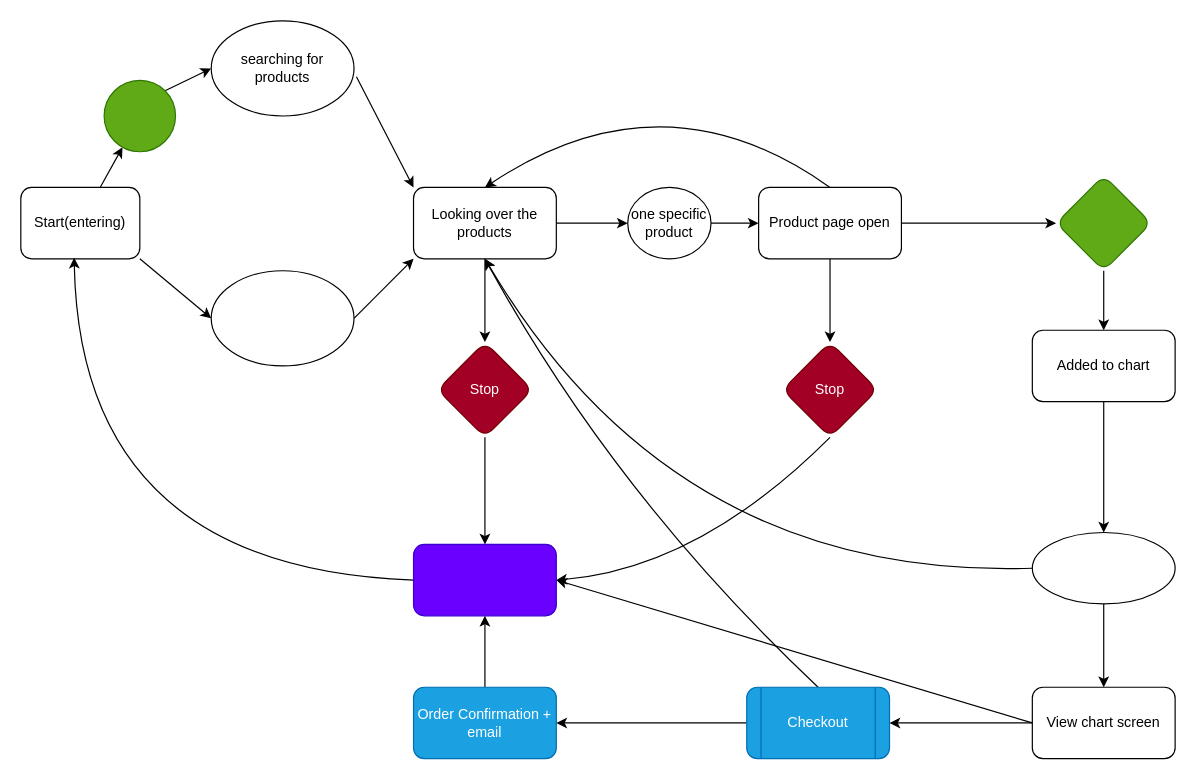
The diagram is 1196 pixels wide and 779 high, and some of its shapes have lost their labels. The box of each missing label's shape, as (x1, y1, x2, y2) in pixels:
Confirmation: (1031, 531, 1175, 604)
exploring products: (210, 270, 354, 366)
input: (103, 79, 176, 152)
Leave the Website: (412, 543, 556, 616)
Yes: (1055, 174, 1151, 271)
